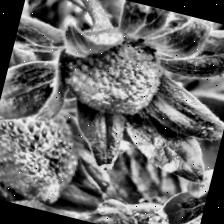Powdery Mildew Fruit: (52, 20, 172, 122), (0, 135, 81, 209)
